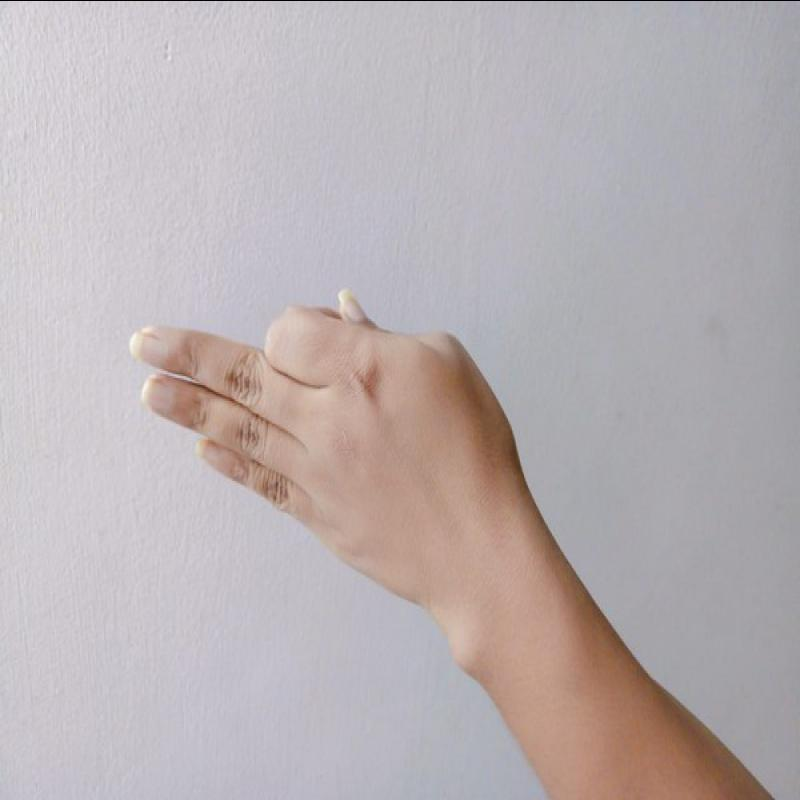Mudraakhyam: (113, 278, 538, 599)
